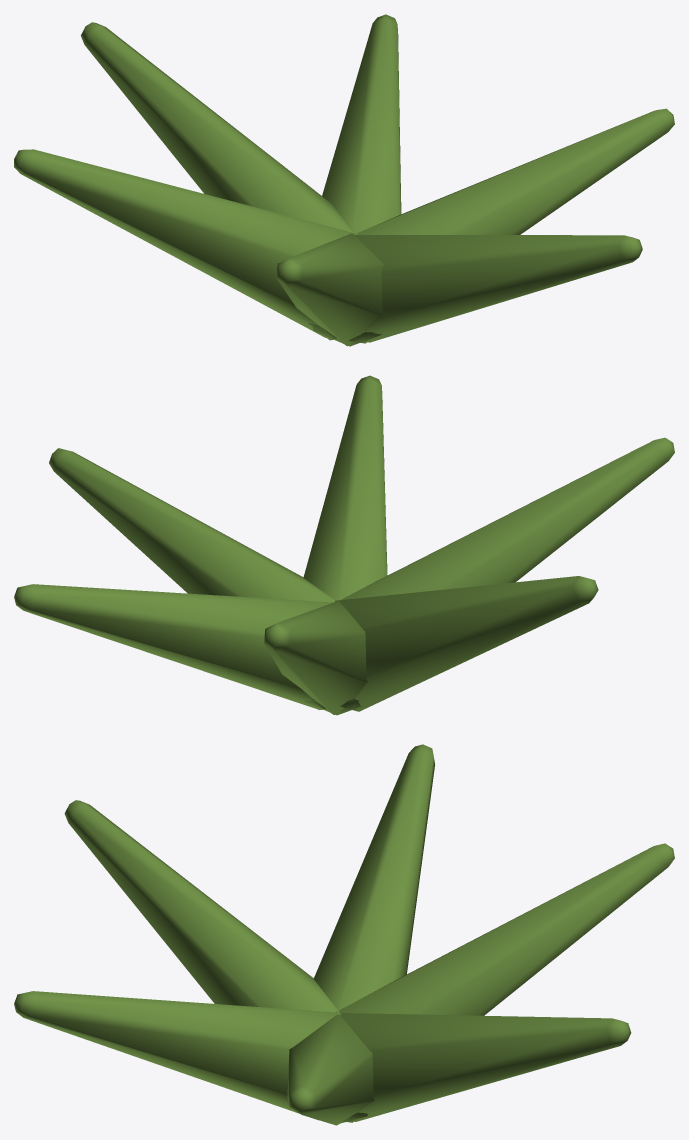
The model's file is prop_fernundefined_db70.glb.
The picture shows the model from 3 angles, top to bottom: view 1: azimuth 30°, elevation 25°; view 2: azimuth 150°, elevation 25°; view 3: azimuth 270°, elevation 25°; orthographic projection.
Visible parts, largest first — view 1: prop_fernundefined_db70; view 2: prop_fernundefined_db70; view 3: prop_fernundefined_db70.
Boxes of the visible parts, x1,y1,x2,y2 form: prop_fernundefined_db70: (14,14,674,346); prop_fernundefined_db70: (14,375,674,715); prop_fernundefined_db70: (14,744,674,1125).
Bounding box in the file's own units: 0.6324 × 0.2314 × 0.5976.
1 material, 1 textured.
